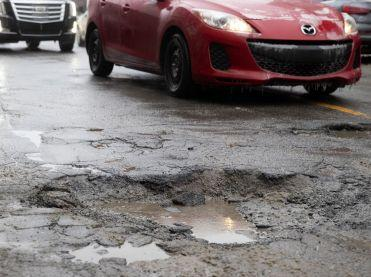Pothole: (0, 123, 320, 276), (318, 117, 371, 149)
